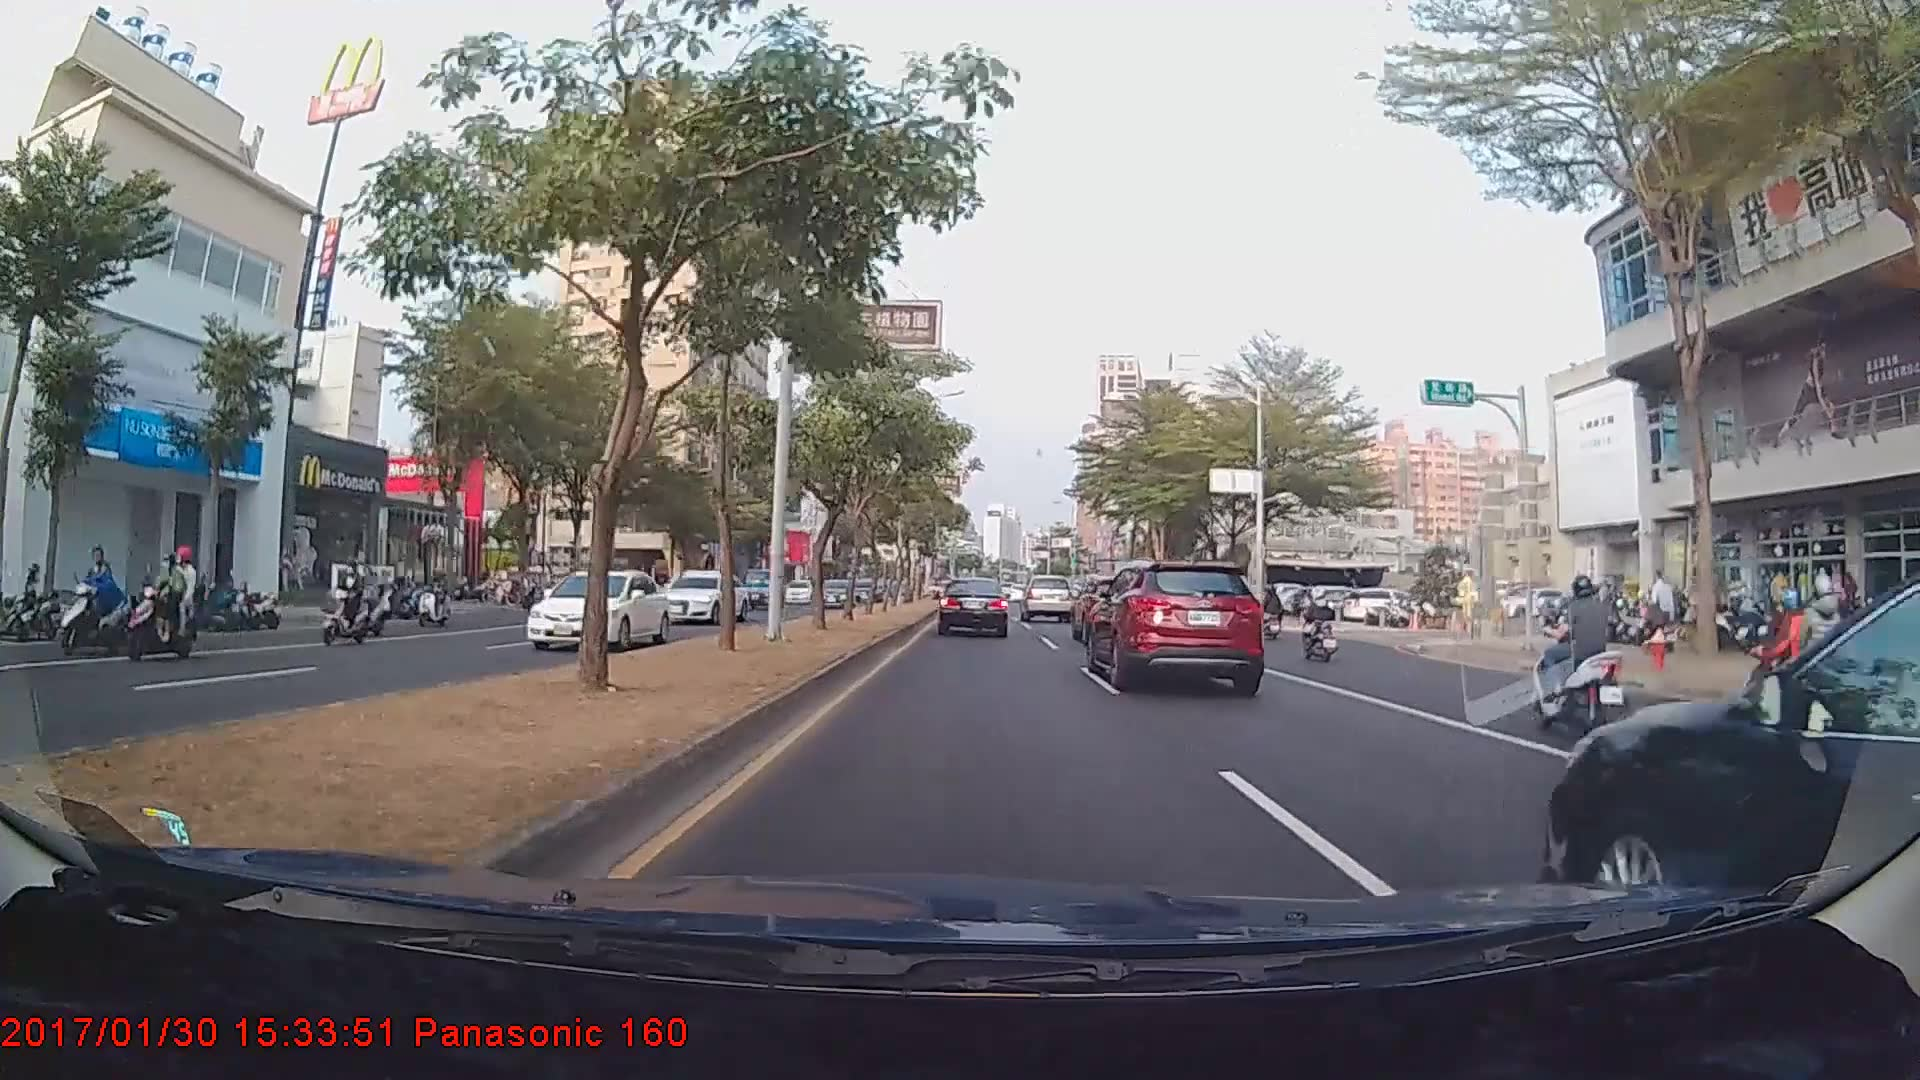pedestrian: (1648, 570, 1679, 659)
rider: (1523, 572, 1643, 738), (1733, 570, 1858, 728), (56, 543, 143, 658), (125, 549, 203, 662), (313, 558, 379, 653), (1299, 586, 1345, 668), (414, 566, 465, 639)
vehicle: (1567, 547, 1920, 927), (1091, 558, 1262, 690), (522, 570, 670, 653), (652, 572, 747, 623), (937, 577, 1009, 637), (1019, 573, 1076, 623), (738, 567, 785, 609)
